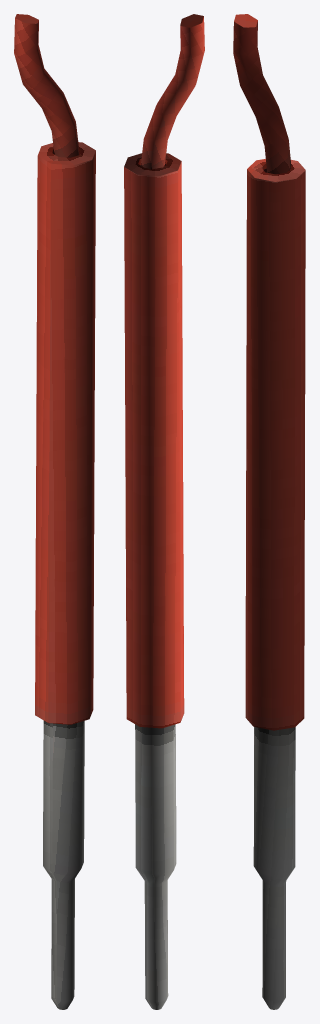
The model's file is shup_red.fbx.
The picture shows the model from 3 angles, left to right: view 1: azimuth 30°, elevation 25°; view 2: azimuth 210°, elevation 25°; view 3: azimuth 330°, elevation 25°; orthographic projection.
Visible parts, largest first — view 1: shup_red; view 2: shup_red; view 3: shup_red.
Part boxes in pixels (x1,y1,x2,y2): shup_red: (14, 14, 95, 1009); shup_red: (124, 14, 204, 1009); shup_red: (233, 14, 305, 1009).
Size of the model in its own units: 0.00828 by 0.1094 by 0.00581.
1 material, 1 textured.
